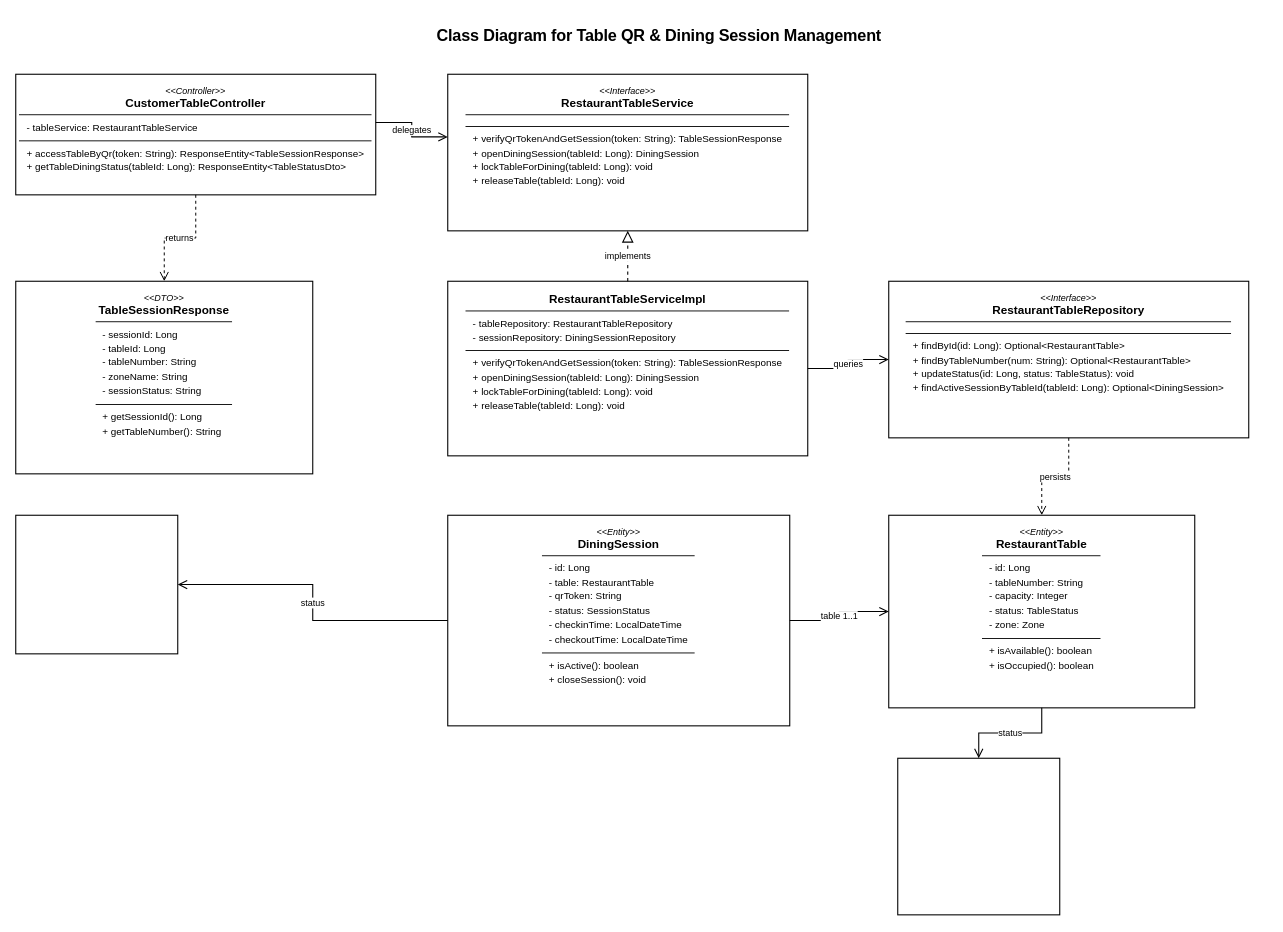
This 1283x932 diagram has some shape labels left out. The shapes that lost their labels are listed below. From the top down, each one's centre as x and y in pixels, then its label:
[96,584]: <<Enumeration>> SessionStatus ACTIVE COMPLETED CANCELLED
[978,836]: <<Enumeration>> TableStatus AVAILABLE OCCUPIED LOCKED RESERVED
